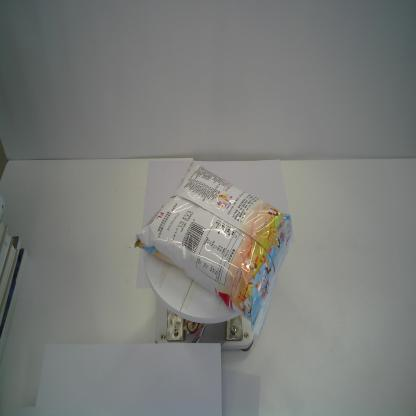Puffed Food: (127, 158, 294, 340)
